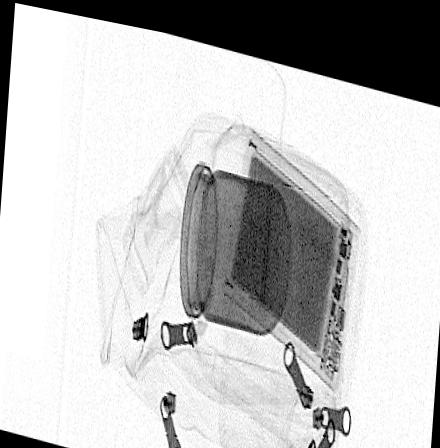Powerbank: (221, 119, 361, 380)
